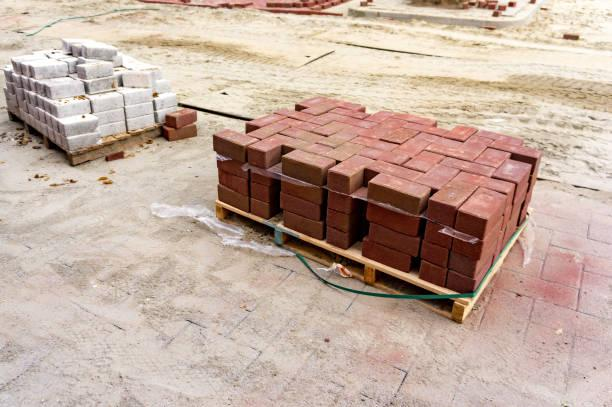Bricks: (453, 185, 506, 240), (366, 172, 431, 215), (427, 180, 480, 226), (326, 154, 375, 195), (280, 150, 337, 185), (452, 218, 502, 257), (450, 256, 495, 297), (366, 203, 419, 237), (360, 240, 414, 272), (369, 223, 418, 256), (212, 128, 258, 163), (450, 243, 497, 277), (250, 133, 295, 166), (439, 155, 497, 177), (323, 110, 378, 132), (369, 158, 420, 181), (277, 176, 322, 202), (458, 170, 511, 192), (416, 163, 459, 189), (284, 213, 323, 240), (58, 113, 100, 137), (494, 158, 534, 183), (282, 194, 322, 219), (52, 91, 90, 117), (305, 142, 351, 163), (431, 143, 482, 161), (494, 141, 544, 159), (217, 184, 248, 213), (417, 131, 466, 149), (407, 149, 445, 172), (89, 89, 124, 113), (349, 136, 400, 152), (479, 128, 524, 146), (423, 239, 450, 269), (402, 120, 448, 137), (249, 121, 290, 140), (425, 223, 452, 251), (218, 171, 248, 196), (77, 61, 116, 80), (475, 147, 510, 168), (165, 107, 198, 128), (395, 138, 429, 158), (419, 262, 445, 288), (392, 111, 437, 126), (84, 76, 117, 96), (45, 81, 86, 97), (31, 61, 67, 79), (304, 98, 342, 115), (279, 117, 322, 132), (342, 125, 388, 139), (461, 136, 494, 155), (318, 131, 356, 147), (444, 125, 479, 142), (99, 116, 128, 136), (216, 158, 248, 176), (126, 113, 156, 132), (327, 226, 351, 249), (278, 107, 312, 123), (164, 125, 196, 142), (376, 118, 406, 136), (125, 97, 152, 117), (82, 46, 118, 61), (288, 128, 323, 143), (121, 73, 153, 89), (93, 109, 127, 124), (332, 107, 371, 120), (118, 90, 153, 104), (245, 114, 282, 127), (63, 135, 99, 148), (326, 210, 348, 231), (152, 92, 179, 109), (328, 191, 349, 212), (285, 136, 312, 152), (315, 121, 345, 134), (250, 170, 273, 186), (251, 185, 271, 203), (296, 97, 328, 108), (338, 142, 365, 155), (369, 109, 394, 123), (252, 201, 270, 218), (381, 152, 409, 162), (307, 117, 333, 127), (338, 100, 359, 110), (505, 206, 511, 225), (12, 61, 21, 73), (74, 46, 82, 58), (29, 92, 36, 103), (39, 98, 44, 112), (13, 86, 20, 96), (21, 78, 29, 86), (23, 64, 28, 75), (56, 130, 61, 141), (42, 123, 48, 132), (14, 76, 19, 86), (37, 84, 42, 94), (45, 102, 49, 114), (24, 91, 28, 103), (51, 128, 55, 139), (52, 120, 57, 128), (47, 117, 52, 125), (39, 115, 45, 121), (36, 109, 38, 121), (30, 80, 32, 89)
